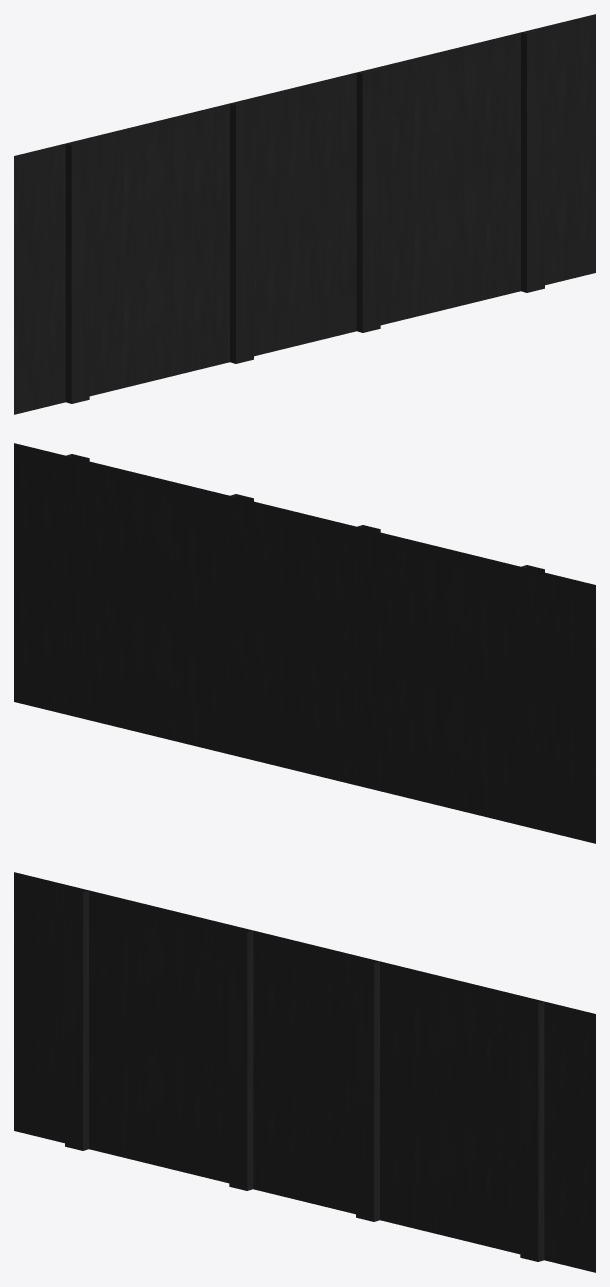
Rendered from SW_ENV_RailTunnelWall_B_01_10m.fbx.
3 views of the same model, one above another, from view 1: azimuth 30°, elevation 25°; view 2: azimuth 150°, elevation 25°; view 3: azimuth 330°, elevation 25° (orthographic).
Parts seen in each view (by area): view 1: SW_ENV_RailTunnelWall_B_01_10m; view 2: SW_ENV_RailTunnelWall_B_01_10m; view 3: SW_ENV_RailTunnelWall_B_01_10m.
Part boxes in pixels (bbox=[...]): SW_ENV_RailTunnelWall_B_01_10m: bbox=[14, 14, 595, 414]; SW_ENV_RailTunnelWall_B_01_10m: bbox=[14, 443, 595, 843]; SW_ENV_RailTunnelWall_B_01_10m: bbox=[14, 872, 595, 1272].
Bounding box in the file's own units: 1000 × 425 × 10.
